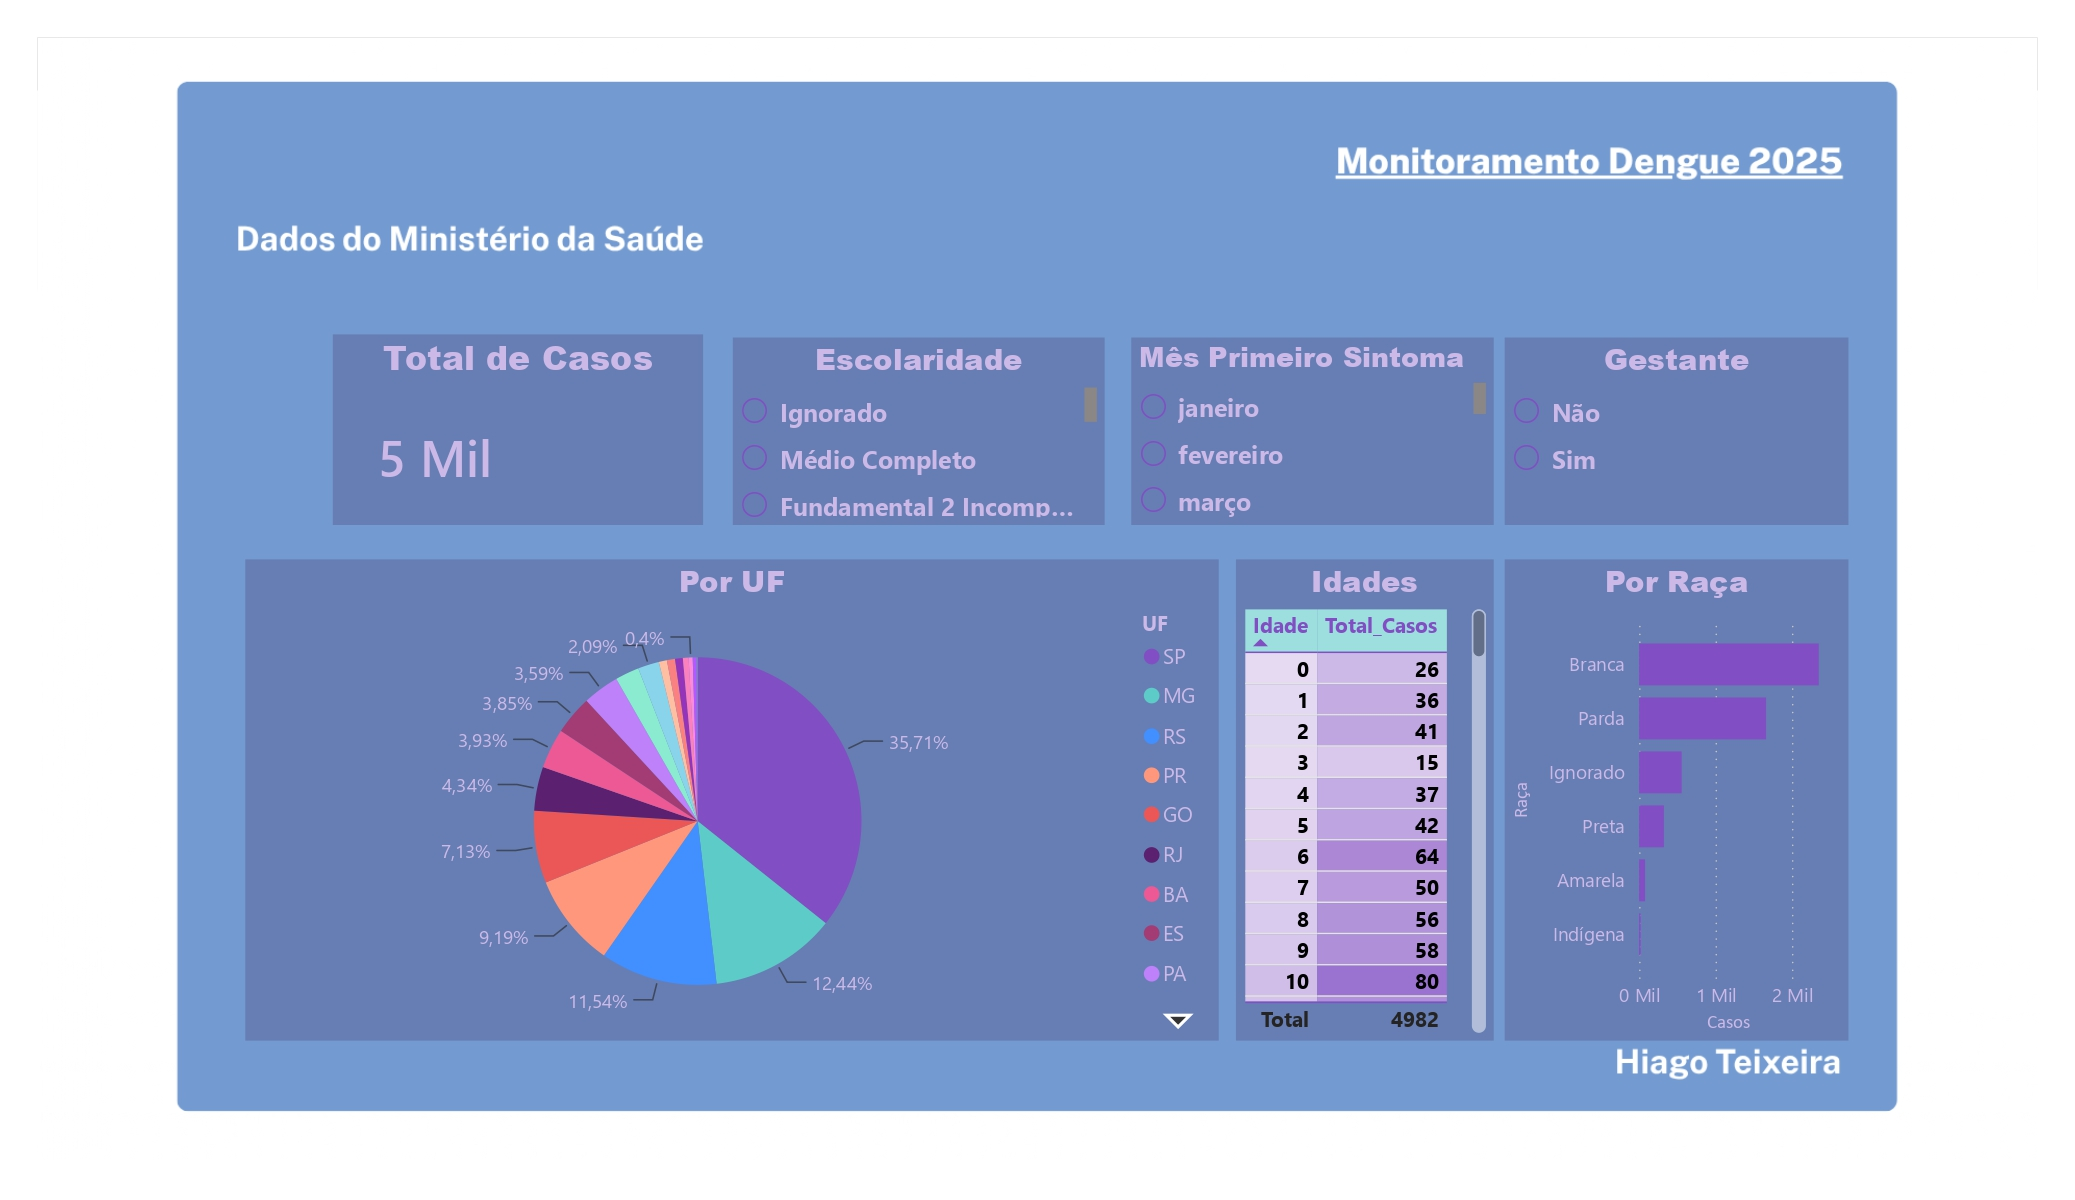

Layout of this report page (visuals, bound fields, positions):
{"tool":"powerbi","page":{"name":"Página 1","canvas":[1280,720],"ordinal":0},"visuals":[{"type":"tableEx","title":"Idades","fields":{"Values":["data (2).Idade","data (2).Total_Casos"]},"box":[767,334,165,308],"z":0},{"type":"pieChart","title":"Por UF","fields":{"Y":["data (2).Total_Casos"],"Category":["data (2).UF"]},"box":[133,334,623,308],"z":1000},{"type":"listSlicer","title":"Escolaridade","fields":{"Values":["data (2).Escolaridade"]},"box":[445,191.5,237.6,121],"z":2000},{"type":"listSlicer","title":"Mês Primeiro Sintoma","fields":{"Values":["data (2).Dt_Notificacao.Variation.Hierarquia de datas.Mês"]},"box":[699.8,191.5,231.8,121],"z":3000},{"type":"listSlicer","fields":{"Values":["data (2).Gestante"]},"box":[938.9,191.5,220.3,121],"z":4000},{"type":"barChart","title":"Por Raça","fields":{"Category":["data (2).Raça"],"Y":["data (2).Total_Casos"]},"box":[939,334,220,308],"z":5000},{"type":"cardVisual","title":"Total de Casos","fields":{"Data":["data (2).Total_Casos"]},"box":[188.6,190.1,237.6,122.4],"z":6000}]}

Visuals, with their boxes on the page's 1280x720 design canvas (x1, y1, x2, y2). These are canvas units, not pixel positions in the 2075x1200 screenshot, which may show the page scaled, cropped or inside an application window:
"Idades" tableEx: select_region(767, 334, 932, 642)
"Por UF" pieChart: select_region(133, 334, 756, 642)
"Escolaridade" listSlicer: select_region(445, 192, 683, 312)
"Mês Primeiro Sintoma" listSlicer: select_region(700, 192, 932, 312)
listSlicer - data (2).Gestante: select_region(939, 192, 1159, 312)
"Por Raça" barChart: select_region(939, 334, 1159, 642)
"Total de Casos" cardVisual: select_region(189, 190, 426, 312)
